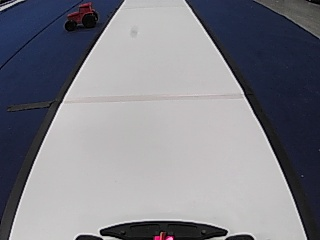Tracktor: (61, 0, 104, 37)
